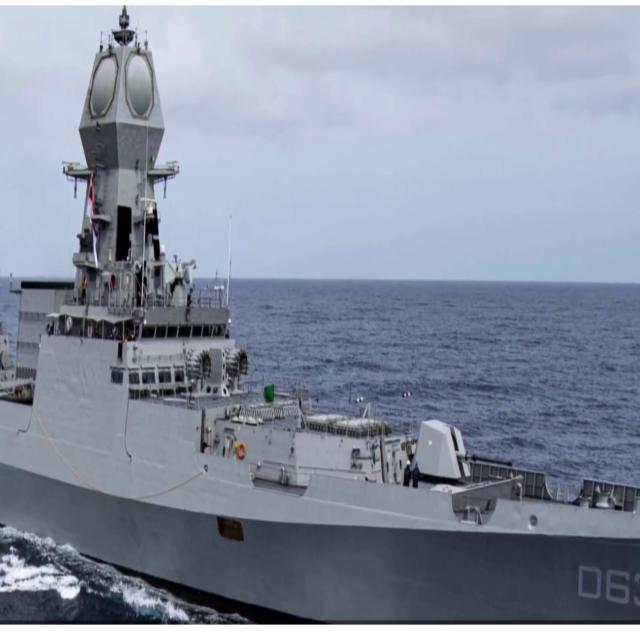OCR: (572, 558, 640, 604)
